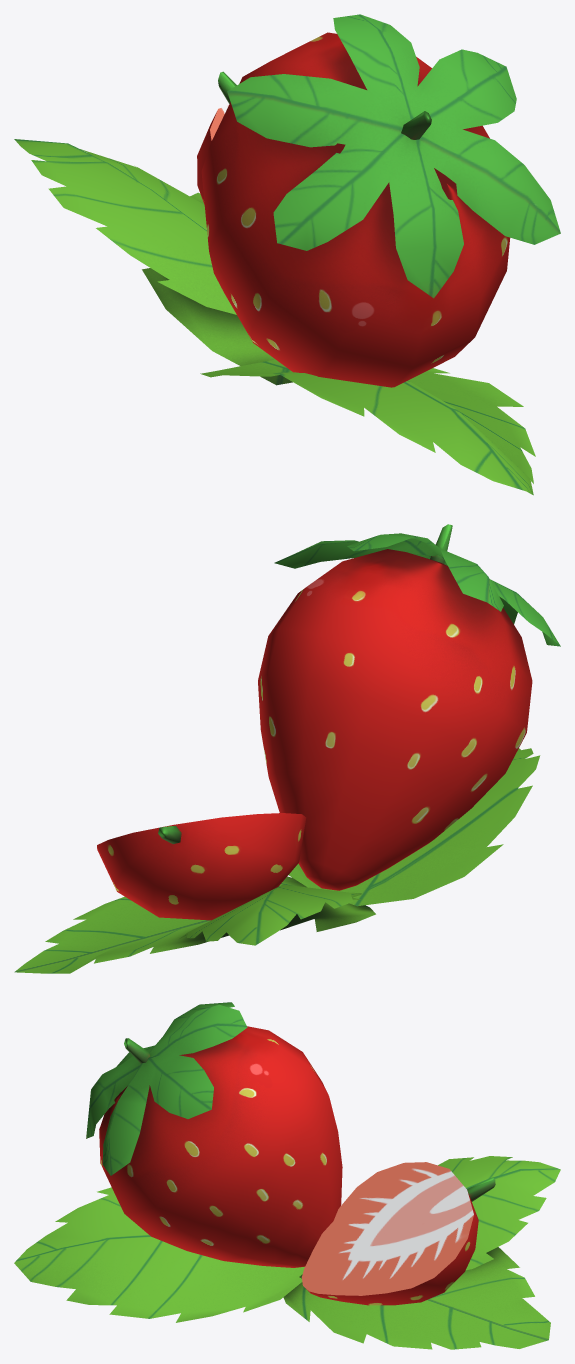
The model's file is Strawberry.fbx.
3 renders of one model, top to bottom at view 1: azimuth 30°, elevation 25°; view 2: azimuth 150°, elevation 25°; view 3: azimuth 270°, elevation 25°, orthographic. The views are drawn at different scales.
Visible parts, largest first — view 1: 036; view 2: 036; view 3: 036.
Boxes of the visible parts, <box> form: 036: <box>14,14,560,495</box>; 036: <box>14,524,560,973</box>; 036: <box>14,1002,560,1349</box>.
Size of the model in its own units: 39.39 by 41.95 by 77.03.
1 material, 1 textured.
